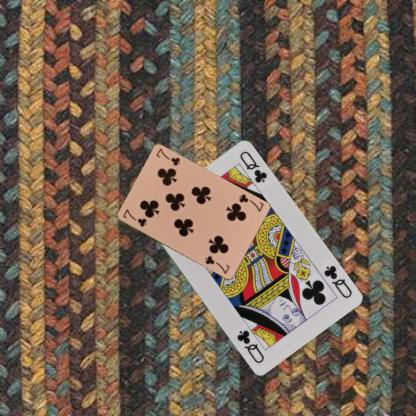7c: (235, 191, 264, 213), (120, 206, 148, 228)
Qc: (321, 262, 353, 300)
